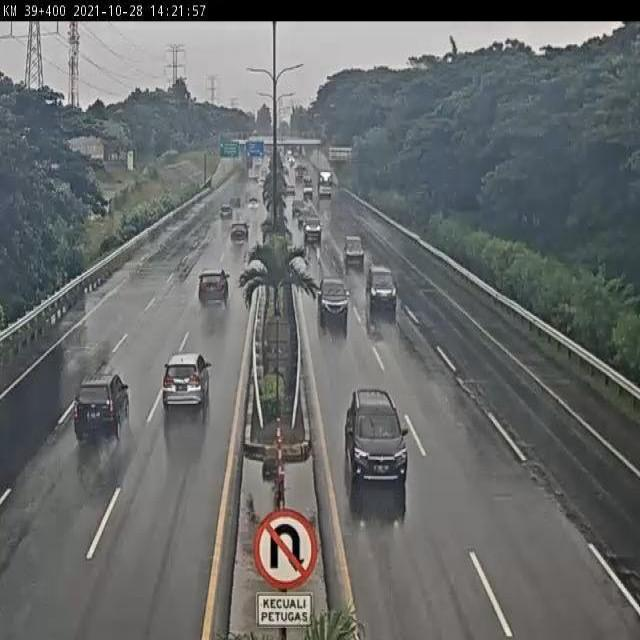car: (345, 388, 413, 491), (72, 372, 133, 448), (162, 352, 212, 411), (366, 266, 401, 314), (196, 268, 230, 315), (317, 276, 352, 321), (344, 235, 366, 265), (303, 218, 323, 242), (229, 221, 249, 243)
